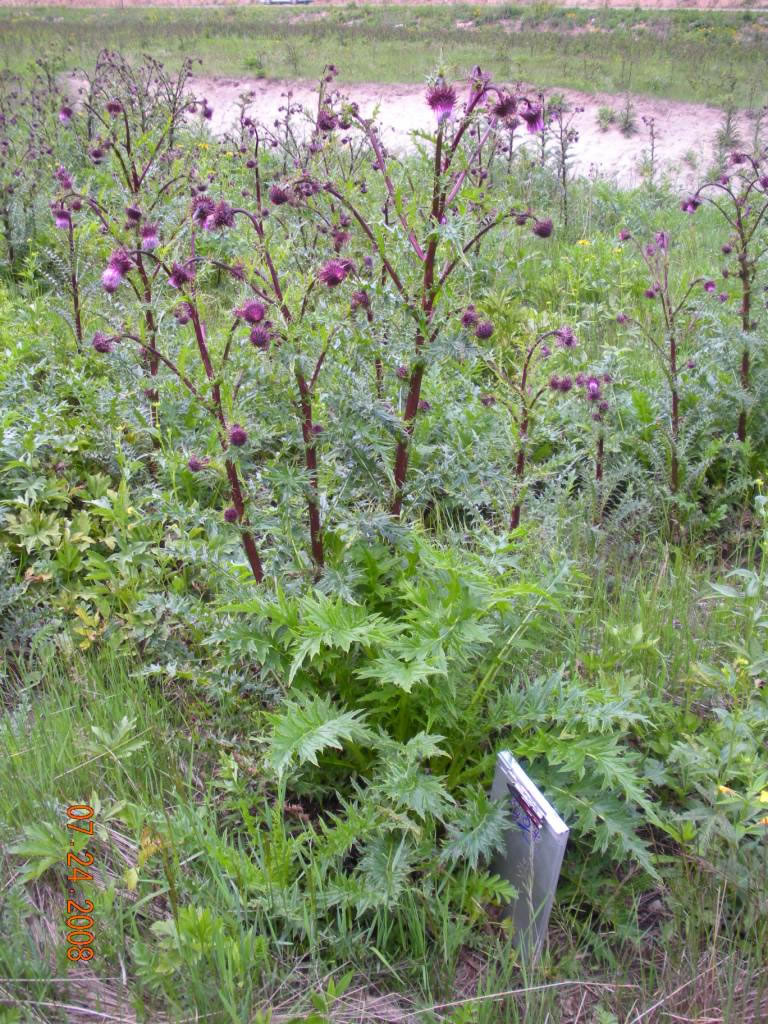thistle: (409, 63, 466, 145), (94, 249, 135, 298), (88, 325, 126, 369), (520, 209, 561, 249), (100, 92, 139, 133), (315, 255, 362, 289), (459, 307, 500, 342), (179, 443, 215, 481), (261, 178, 296, 215), (217, 498, 243, 534), (228, 419, 251, 452)
